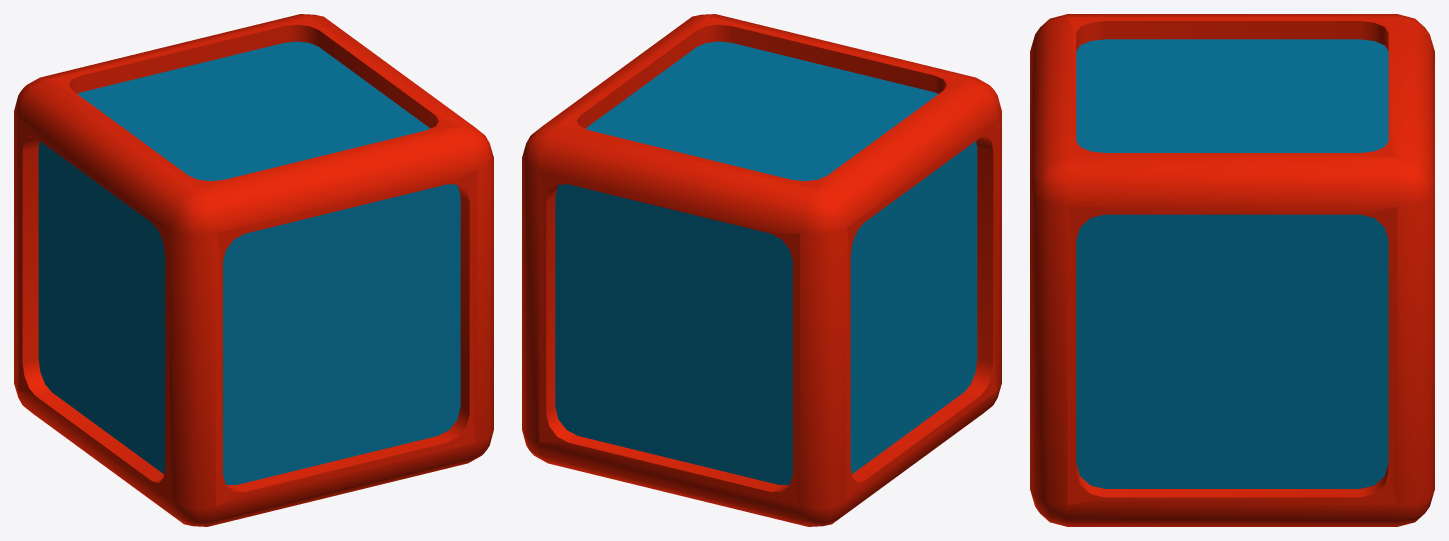
Rendered from Obs_Box.fbx.
3 views of the same model, side by side, from view 1: azimuth 30°, elevation 25°; view 2: azimuth 150°, elevation 25°; view 3: azimuth 270°, elevation 25° (orthographic). The views are drawn at different scales.
Parts seen in each view (by area): view 1: Obs_Box; view 2: Obs_Box; view 3: Obs_Box.
Part boxes in pixels (box(x1,y1,x2,y2)): Obs_Box: box(14, 14, 493, 526); Obs_Box: box(522, 14, 1001, 526); Obs_Box: box(1030, 14, 1434, 526).
Size of the model in its own units: 1 by 1 by 1.
